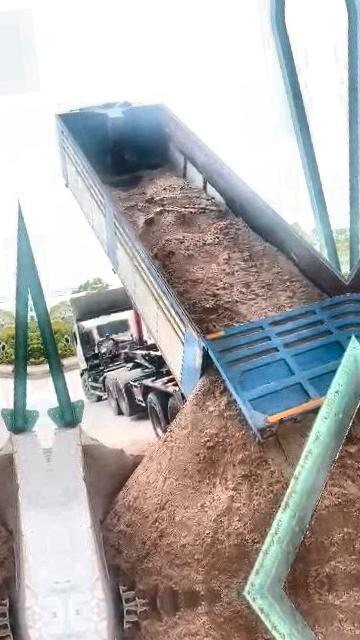sand: (104, 373, 314, 602), (114, 171, 326, 332), (288, 411, 360, 587), (82, 434, 142, 525)
